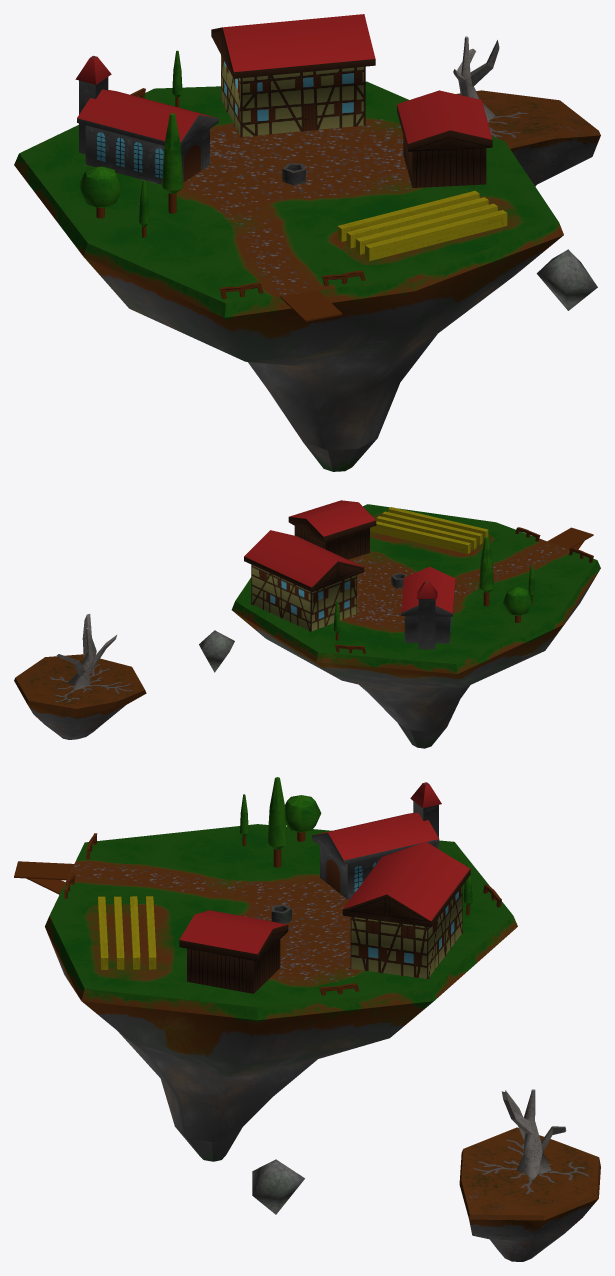
File: insel.glb
3 renders of one model, top to bottom at view 1: azimuth 30°, elevation 25°; view 2: azimuth 150°, elevation 25°; view 3: azimuth 270°, elevation 25°, orthographic. The views are drawn at different scales.
Visible parts, largest first — view 1: Insel 1, Insel 2, Insel 3; view 2: Insel 1, Insel 2, Insel 3; view 3: Insel 1, Insel 2, Insel 3.
Part boxes in pixels (x1=…): Insel 1: x1=14, y1=14, x2=563, y2=471; Insel 2: x1=453, y1=36, x2=600, y2=186; Insel 3: x1=536, y1=249, x2=597, y2=310; Insel 1: x1=231, y1=500, x2=600, y2=748; Insel 2: x1=14, y1=614, x2=146, y2=739; Insel 3: x1=199, y1=630, x2=234, y2=672; Insel 1: x1=14, y1=777, x2=517, y2=1161; Insel 2: x1=459, y1=1089, x2=600, y2=1261; Insel 3: x1=252, y1=1159, x2=304, y2=1214.
Bounding box in the file's own units: 2.32 × 1.24 × 2.05.
Materials: 3 (3 with a texture image).
